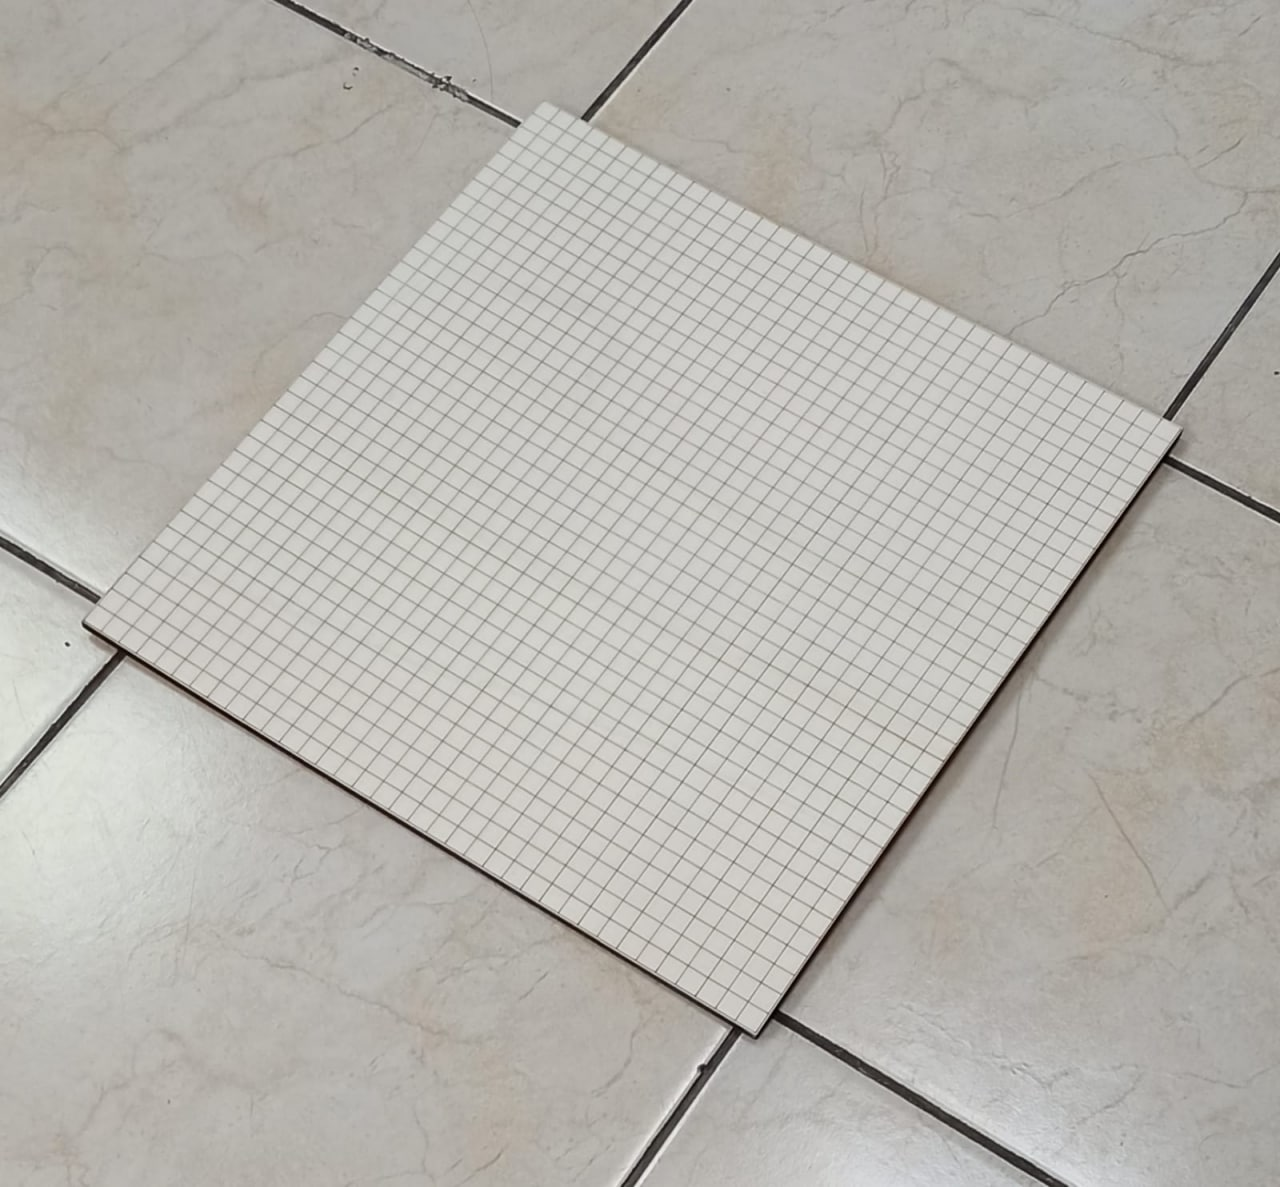grid: (78, 96, 1190, 1042)
